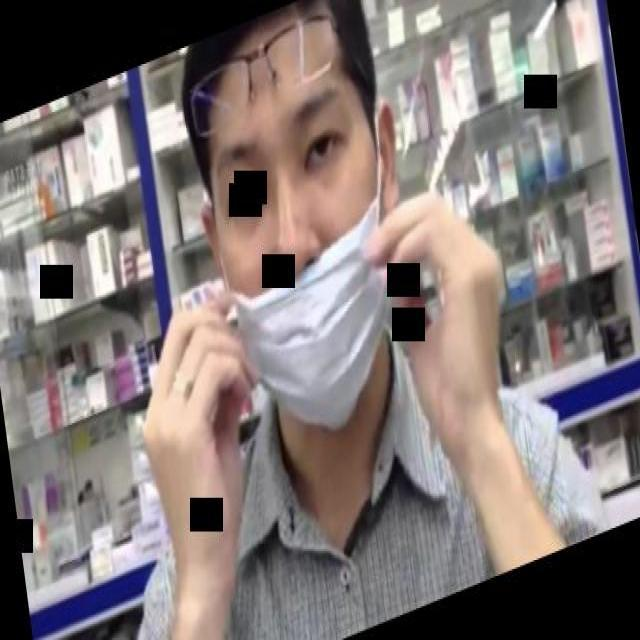hairnet: (213, 180, 400, 428)
